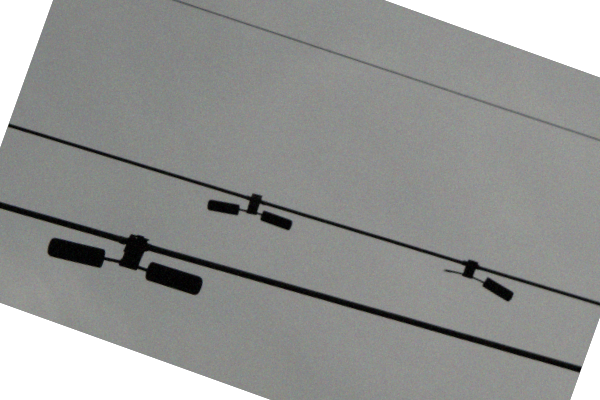damper: (41, 230, 206, 299), (203, 189, 294, 231)
damper_defect: (438, 258, 515, 303)
